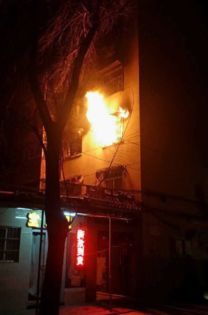fire: (80, 79, 130, 147)
